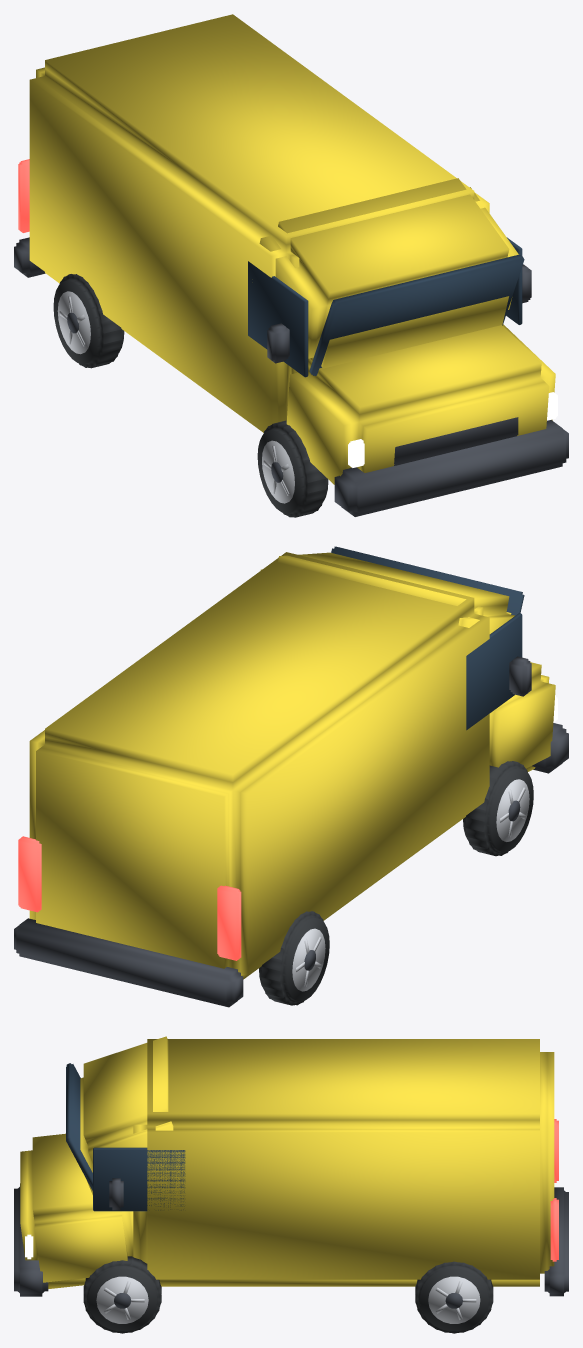
File: van_swiss.glb
3 views of the same model, one above another, from view 1: azimuth 30°, elevation 25°; view 2: azimuth 150°, elevation 25°; view 3: azimuth 270°, elevation 25° (orthographic). The views are drawn at different scales.
Parts seen in each view (by area): view 1: body_cargo, body_cab_nose, body_cab_roof, bumper_f, glass_wind, door_glass_-1, wheel_fr_tire, wheel_rr_tire, grille, wheel_rr_rim, wheel_fr_rim, tl_-1 (+3 smaller); view 2: body_cargo, bumper_r, body_cab_nose, body_cab_roof, door_glass_-1, wheel_fr_tire, wheel_rr_tire, glass_wind, tl_-1, tl_1, wheel_fr_rim, wheel_rr_rim (+2 smaller); view 3: body_cargo, body_cab_nose, body_cab_roof, door_glass_1, wheel_fl_tire, wheel_rl_tire, bumper_f, wheel_fl_rim, wheel_rl_rim, glass_wind, bumper_r, tl_1 (+1 smaller).
Boxes of the visible parts, x1,y1,x2,y2 form: body_cargo: (29,14,489,432); body_cab_nose: (286,324,555,484); body_cab_roof: (259,178,518,368); bumper_f: (334,420,568,516); glass_wind: (309,254,524,375); door_glass_-1: (248,261,308,377); wheel_fr_tire: (257,420,328,517); wheel_rr_tire: (53,274,124,368); grille: (394,417,518,465); wheel_rr_rim: (57,291,90,354); wheel_fr_rim: (262,440,294,503); tl_-1: (18,159,29,232); body_cargo: (29,552,489,979); bumper_r: (14,918,243,1007); body_cab_nose: (489,662,555,771); body_cab_roof: (260,552,514,633); door_glass_-1: (466,613,522,730); wheel_fr_tire: (463,761,533,856); wheel_rr_tire: (259,911,329,1005); glass_wind: (331,546,524,615); tl_-1: (217,885,241,960); tl_1: (18,836,41,912); wheel_fr_rim: (496,779,529,841); wheel_rr_rim: (292,928,325,991); body_cargo: (133,1039,554,1286); body_cab_nose: (20,1133,133,1288); body_cab_roof: (80,1036,173,1194); door_glass_1: (93,1147,185,1211); wheel_fl_tire: (83,1256,161,1333); wheel_rl_tire: (415,1261,493,1333); bumper_f: (14,1183,48,1296); wheel_fl_rim: (96,1276,148,1323); wheel_rl_rim: (428,1276,480,1323); glass_wind: (66,1063,92,1190); bumper_r: (544,1187,568,1296); tl_1: (550,1198,558,1261).
Bounding box in the file's own units: 2.4 × 2.37 × 5.47.
